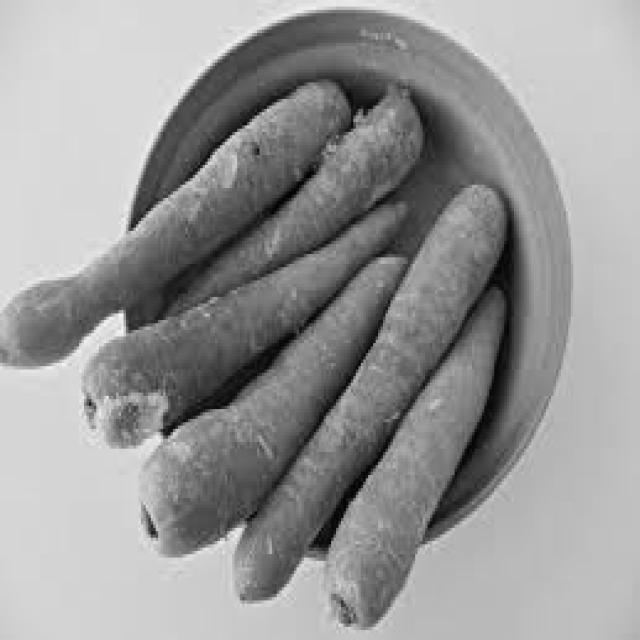Stale_Carrot: (357, 230, 481, 396), (172, 117, 321, 199), (69, 342, 189, 441), (330, 74, 420, 206), (312, 515, 402, 625), (0, 274, 97, 358)
